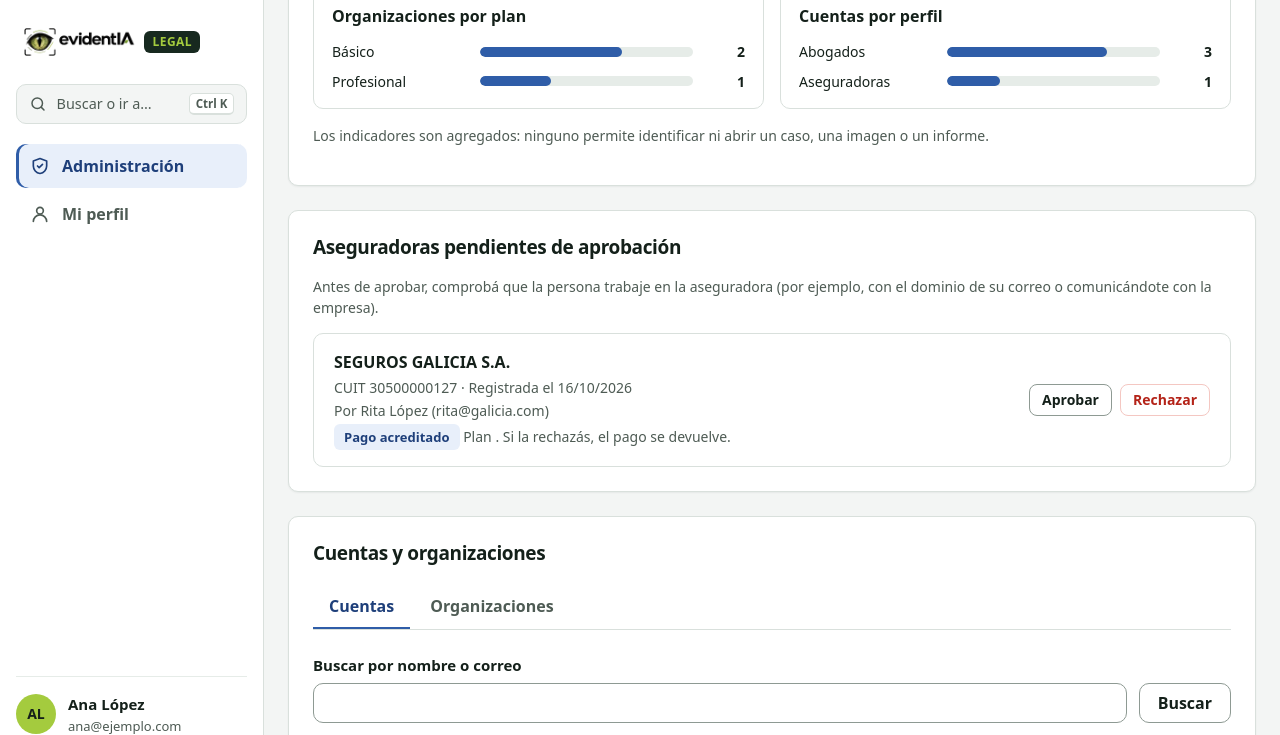
Test: administración › rechaza con un motivo obligatorio (CA9)
This screenshot has width=1280, height=735.
(page scrolled)
Step 1. Click the button with aria-label "Rechazar SEGUROS GALICIA S.A." → coordinates (1165, 400), box [1120,384,1210,416]
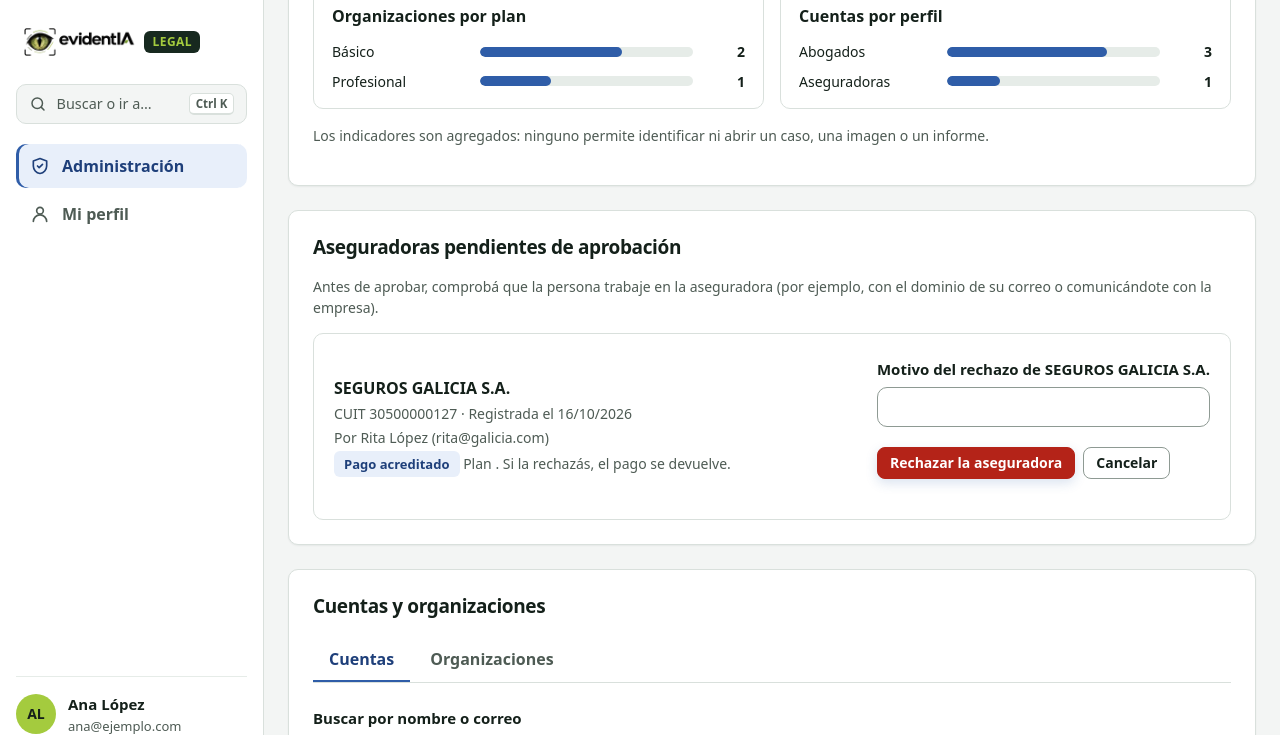
Step 2. Click the button "Rechazar la aseguradora" → coordinates (976, 463), box [877,447,1075,479]
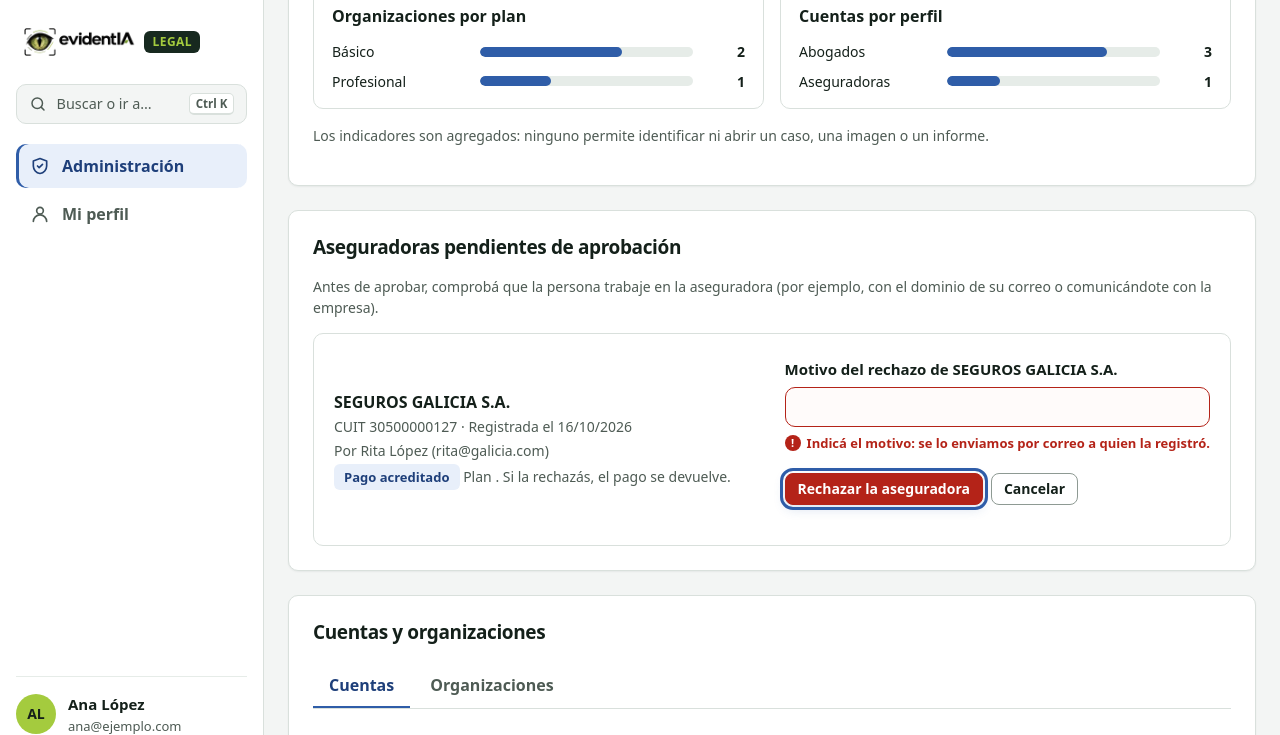
Expected: the text "Indicá el motivo" is shown, [807,434,1210,452]
Step 3. Type "No trabaja en la empresa." into the field labelled "Motivo del rechazo de SEGUROS GALICIA S.A." → coordinates (997, 407), box [785,387,1210,427]
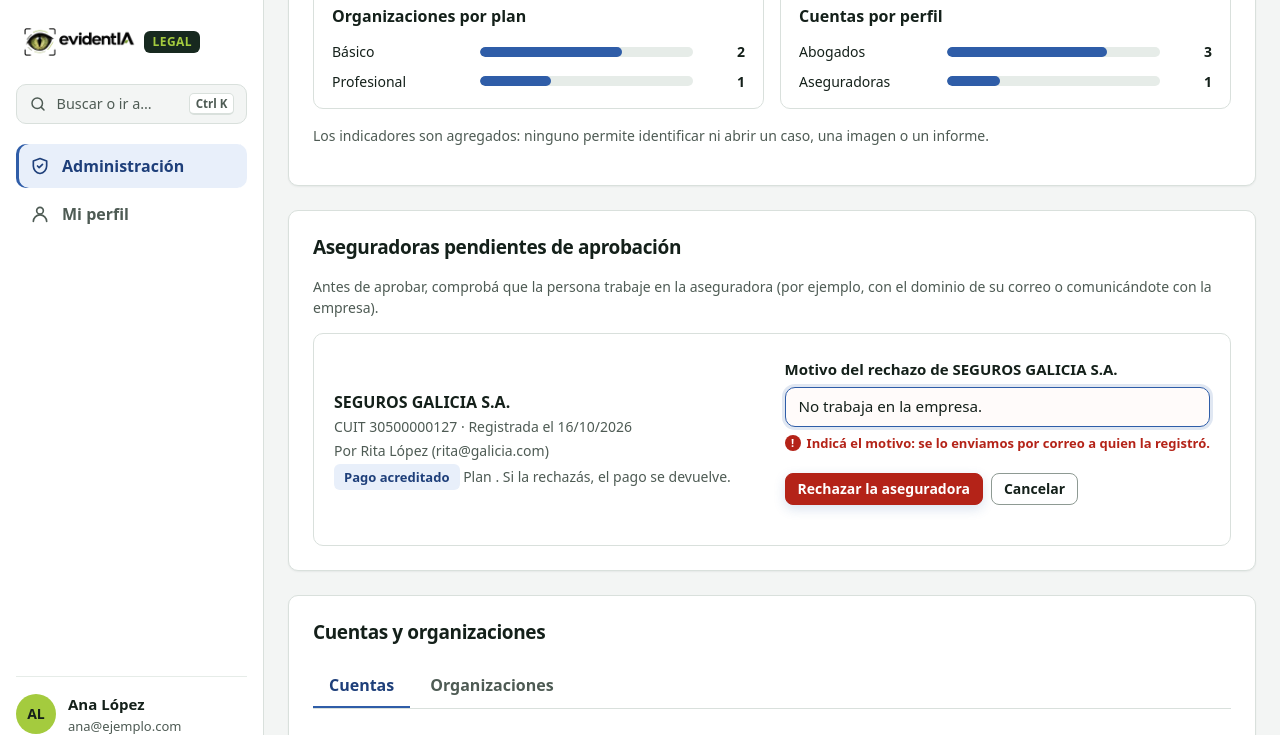
Step 4. Click the button "Rechazar la aseguradora" → coordinates (884, 489), box [785,473,983,505]
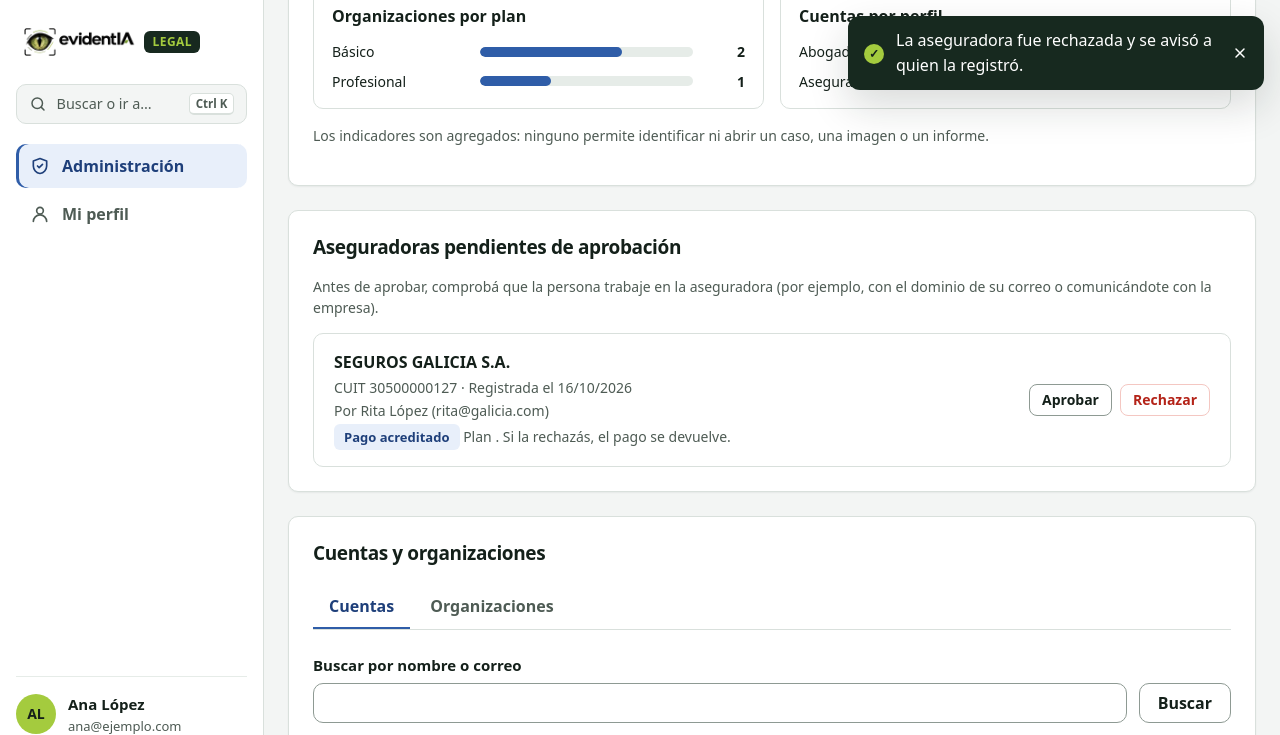
Expected: the text "La aseguradora fue rechazada y se avisó a quien la registró." is shown, [896,28,1212,78]
